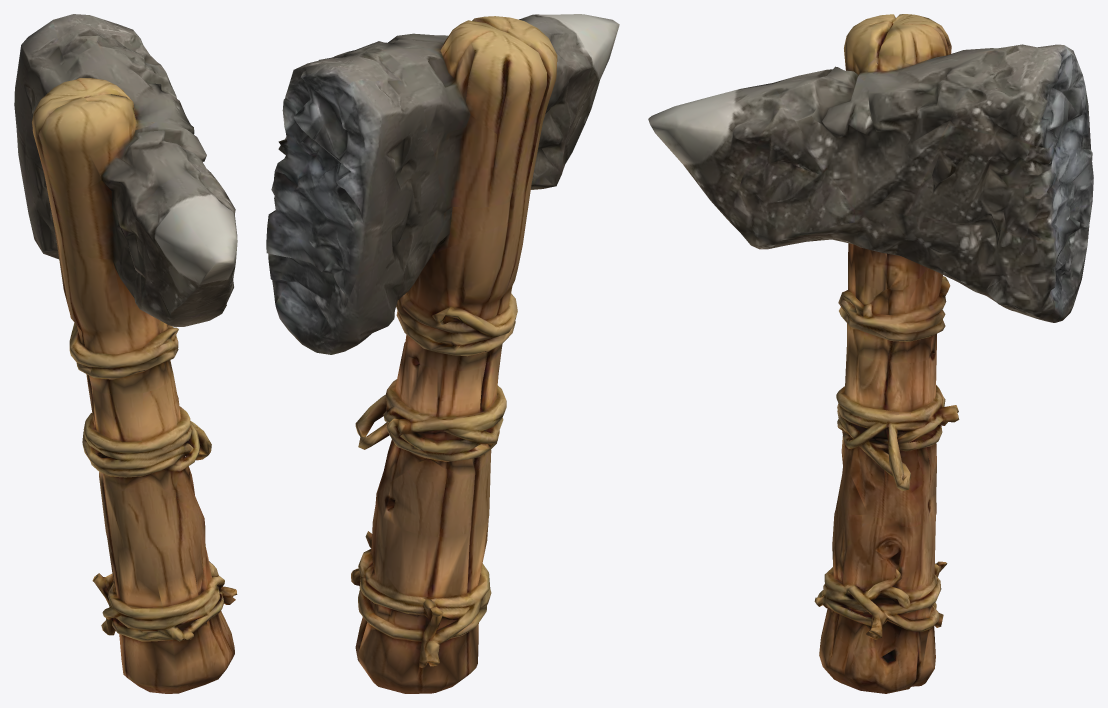
File: hacha_piedra.glb
3 renders of one model, left to right at view 1: azimuth 30°, elevation 25°; view 2: azimuth 150°, elevation 25°; view 3: azimuth 270°, elevation 25°, orthographic. The views are drawn at different scales.
Visible parts, largest first — view 1: tripo_node_d6441563-d75e-43be-acdc-cd4aab26c013; view 2: tripo_node_d6441563-d75e-43be-acdc-cd4aab26c013; view 3: tripo_node_d6441563-d75e-43be-acdc-cd4aab26c013.
Boxes of the visible parts, left/top/right/bottom form: tripo_node_d6441563-d75e-43be-acdc-cd4aab26c013: left=14, top=14, right=237, bottom=693; tripo_node_d6441563-d75e-43be-acdc-cd4aab26c013: left=266, top=14, right=619, bottom=693; tripo_node_d6441563-d75e-43be-acdc-cd4aab26c013: left=648, top=14, right=1093, bottom=693.
Bounding box in the file's own units: 0.3213 × 0.9995 × 0.645.
Materials: 1 (1 with a texture image).
